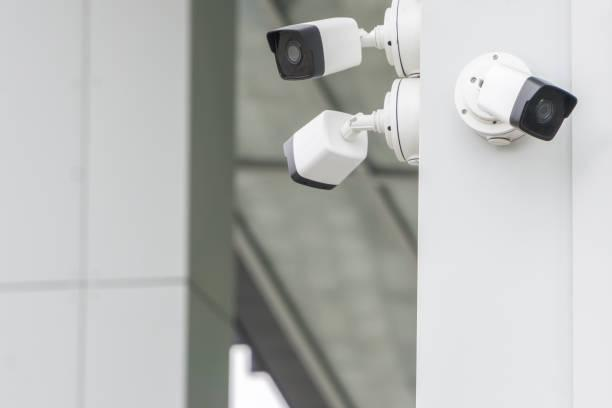camera: (445, 30, 589, 171), (254, 8, 372, 94)
